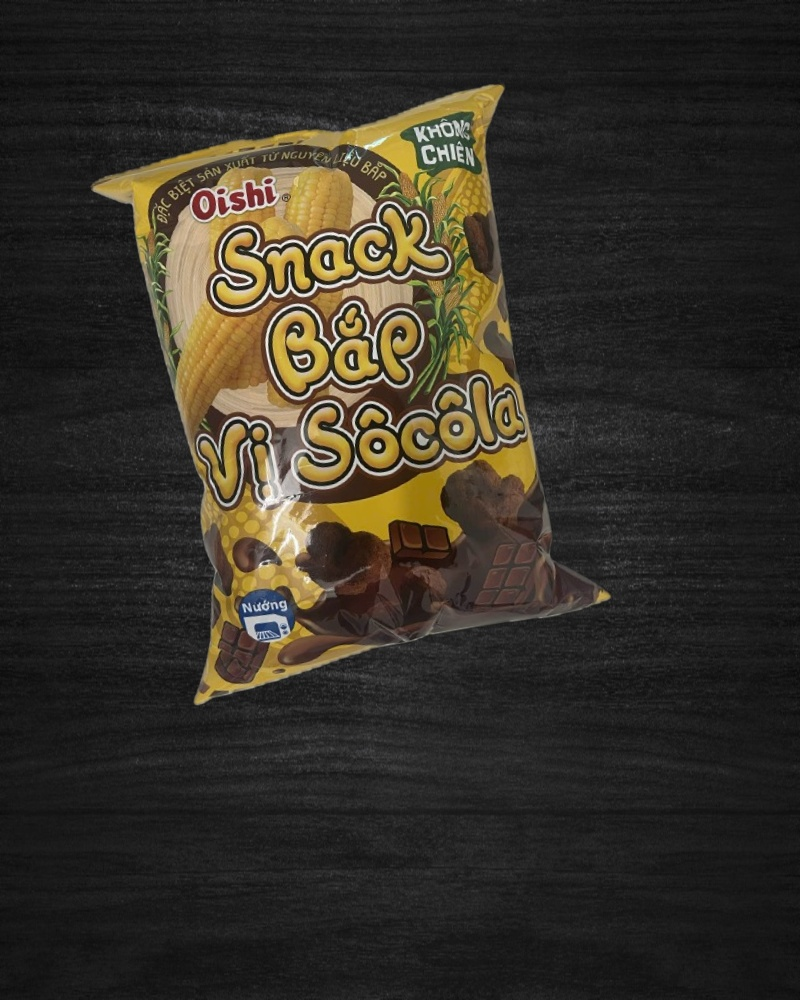Snack socola: (88, 83, 616, 696)
